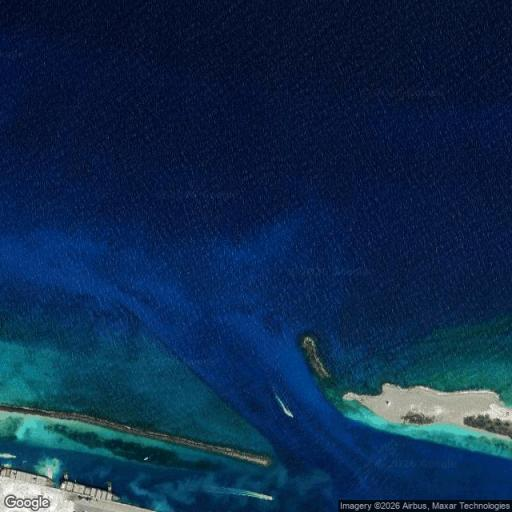ship: (180, 476, 280, 505), (58, 479, 121, 502), (266, 390, 302, 428), (1, 467, 58, 488), (136, 454, 158, 464)
